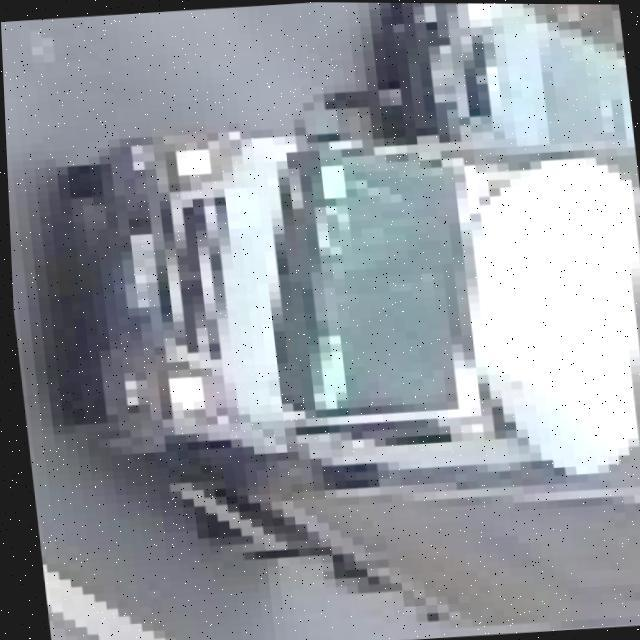truck: (45, 61, 640, 640)
